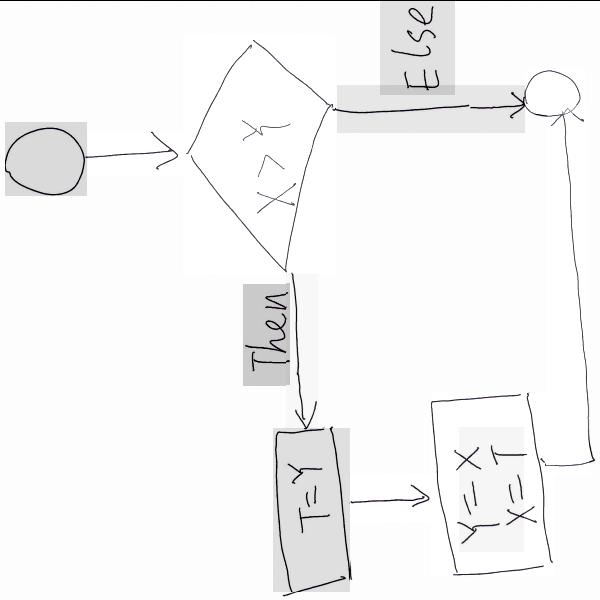arrow: (547, 103, 589, 474), (337, 84, 525, 132), (286, 266, 318, 427), (87, 132, 184, 176), (347, 473, 435, 521)
decision: (183, 33, 335, 272)
process: (432, 392, 555, 574), (274, 427, 350, 591)
terminator: (6, 121, 87, 195), (525, 68, 585, 113)
text: (460, 426, 525, 551), (380, 0, 455, 94), (243, 282, 290, 384), (240, 116, 294, 202), (286, 460, 326, 530)
